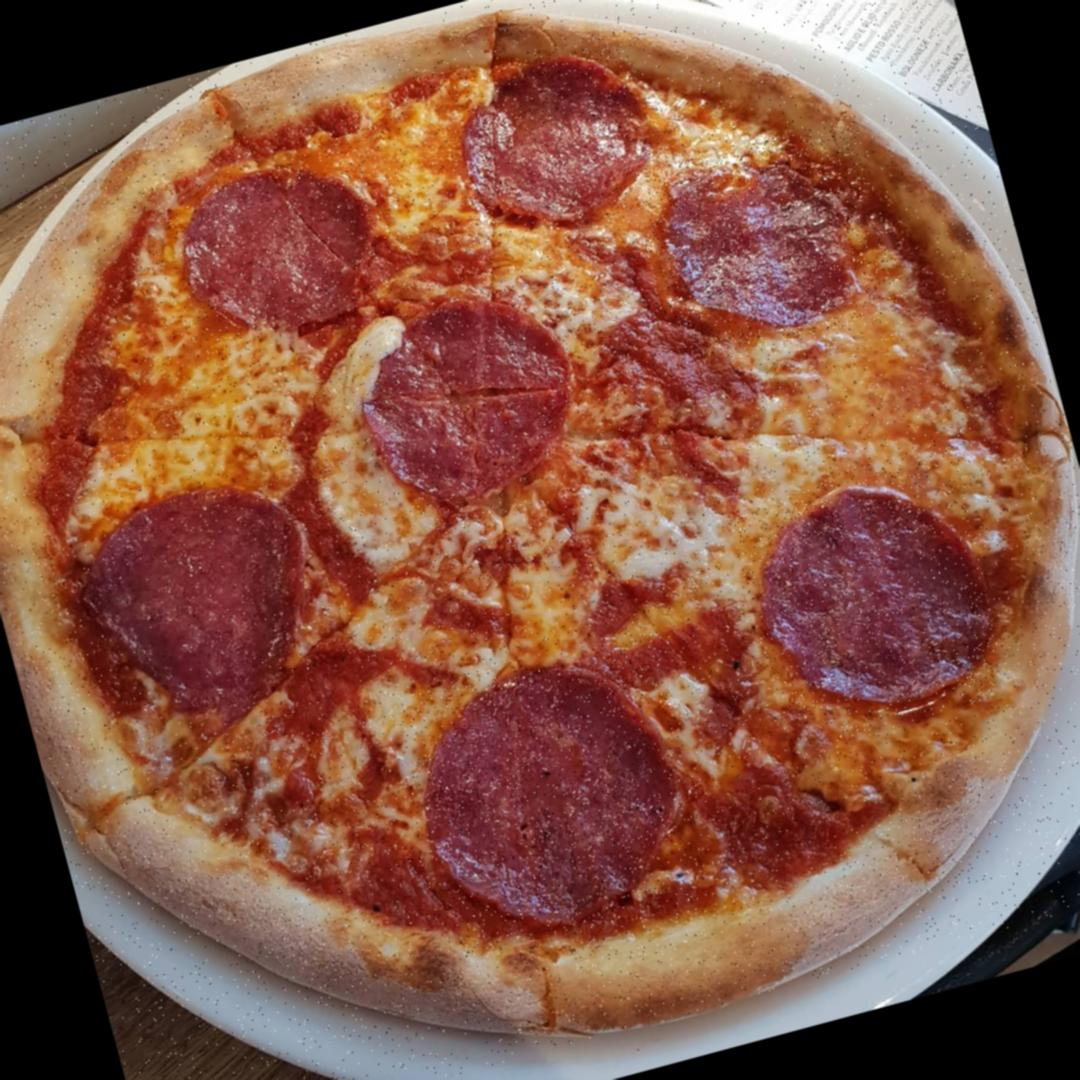Pepperoni: (381, 625, 724, 967), (724, 440, 1024, 754), (58, 448, 355, 741), (336, 258, 605, 526), (636, 114, 908, 370), (426, 21, 674, 259), (162, 132, 408, 369)
Pizza: (0, 0, 1080, 1080)
